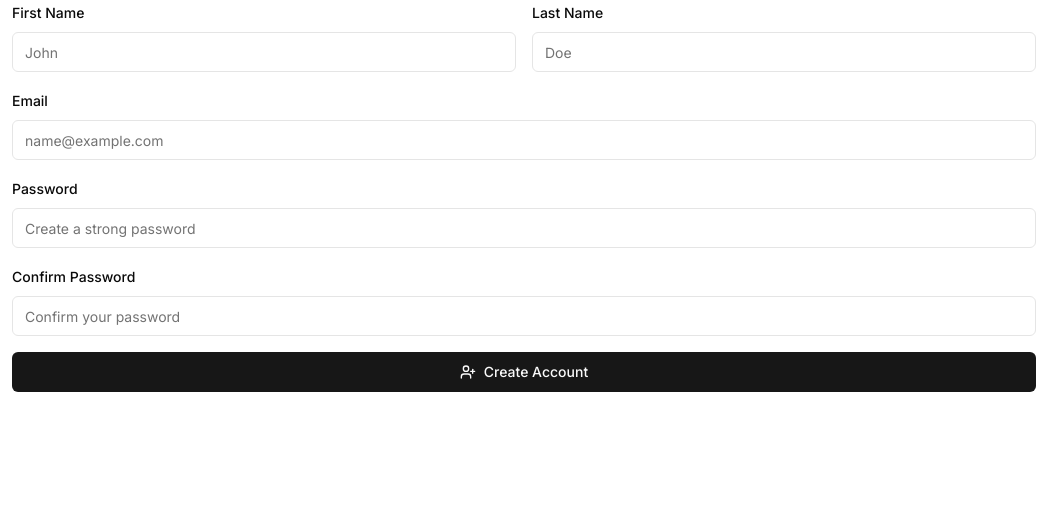
RegisterForm › shows validation errors for empty fields
The image size is (1048, 521).
Click the button "Create Account".
click(524, 372)  # box [12, 352, 1036, 392]
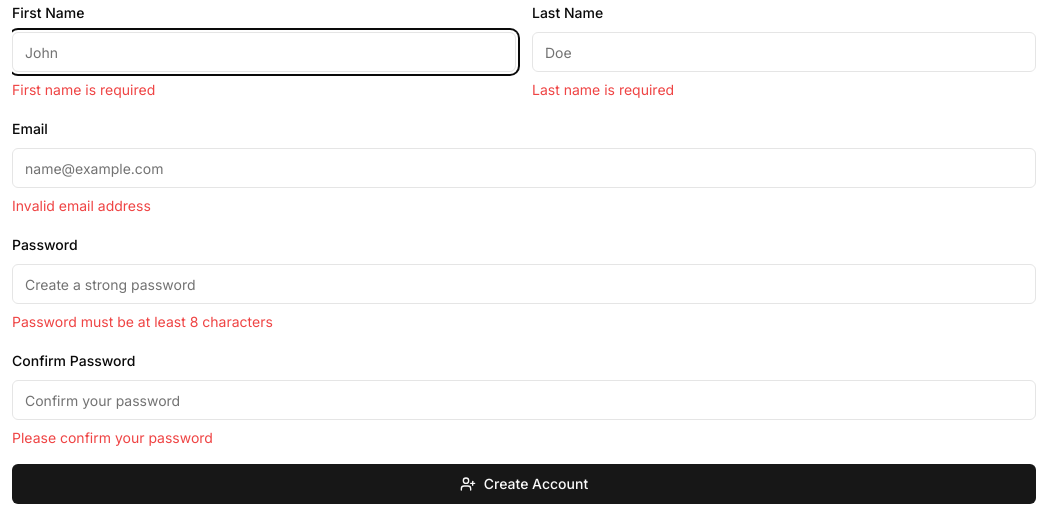
Expected: the text "First name is required" is shown, [12, 81, 155, 98]
Expected: the text "Last name is required" is shown, [532, 81, 674, 98]
Expected: the text "Invalid email address" is shown, [12, 197, 151, 214]
